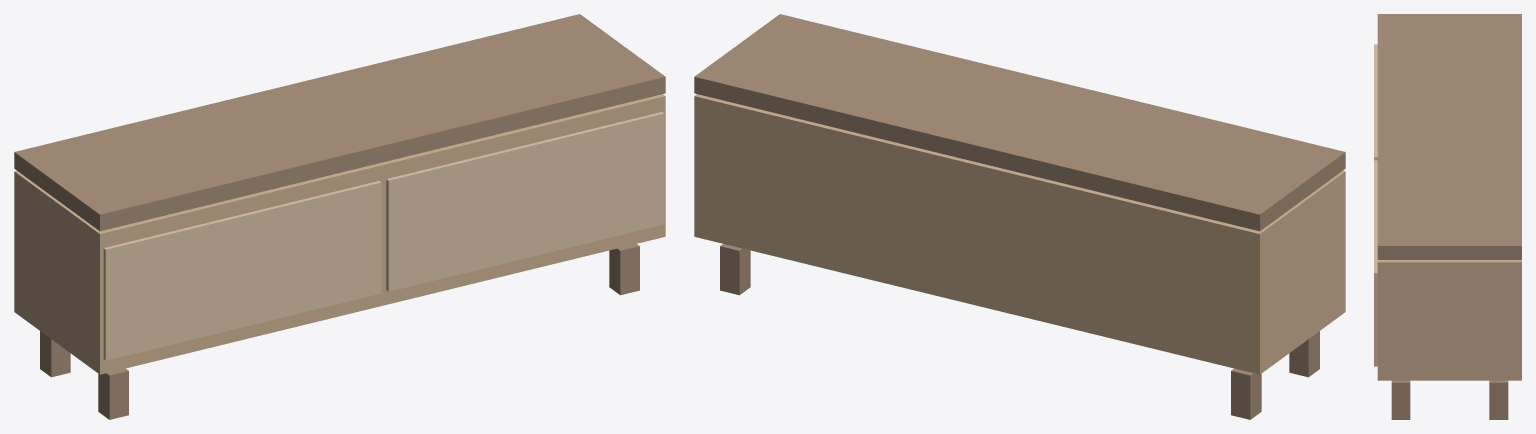
Rendered from tv-console.glb.
The picture shows the model from 3 angles, left to right: view 1: azimuth 30°, elevation 25°; view 2: azimuth 150°, elevation 25°; view 3: azimuth 270°, elevation 25°; orthographic projection. The views are drawn at different scales.
Visible parts, largest first — view 1: TV Console; view 2: TV Console; view 3: TV Console.
Boxes of the visible parts, box(x1,y1,x2,y2) form: TV Console: box(14, 14, 665, 419); TV Console: box(694, 14, 1345, 419); TV Console: box(1374, 14, 1521, 419).
Size of the model in its own units: 1.6 by 0.5825 by 0.431.
